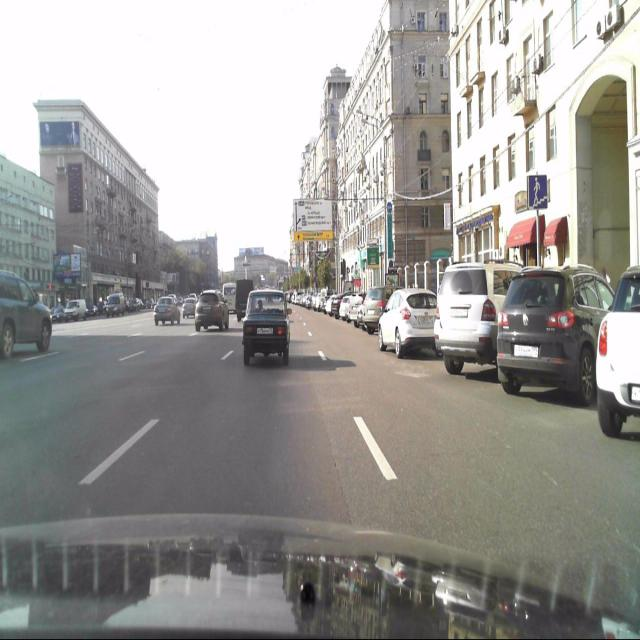road sign: (528, 175, 547, 210)
